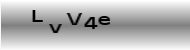4: (82, 16, 97, 29)
L: (30, 9, 44, 23)
V: (66, 12, 82, 25)
e: (98, 14, 111, 25)
v: (47, 22, 62, 34)
